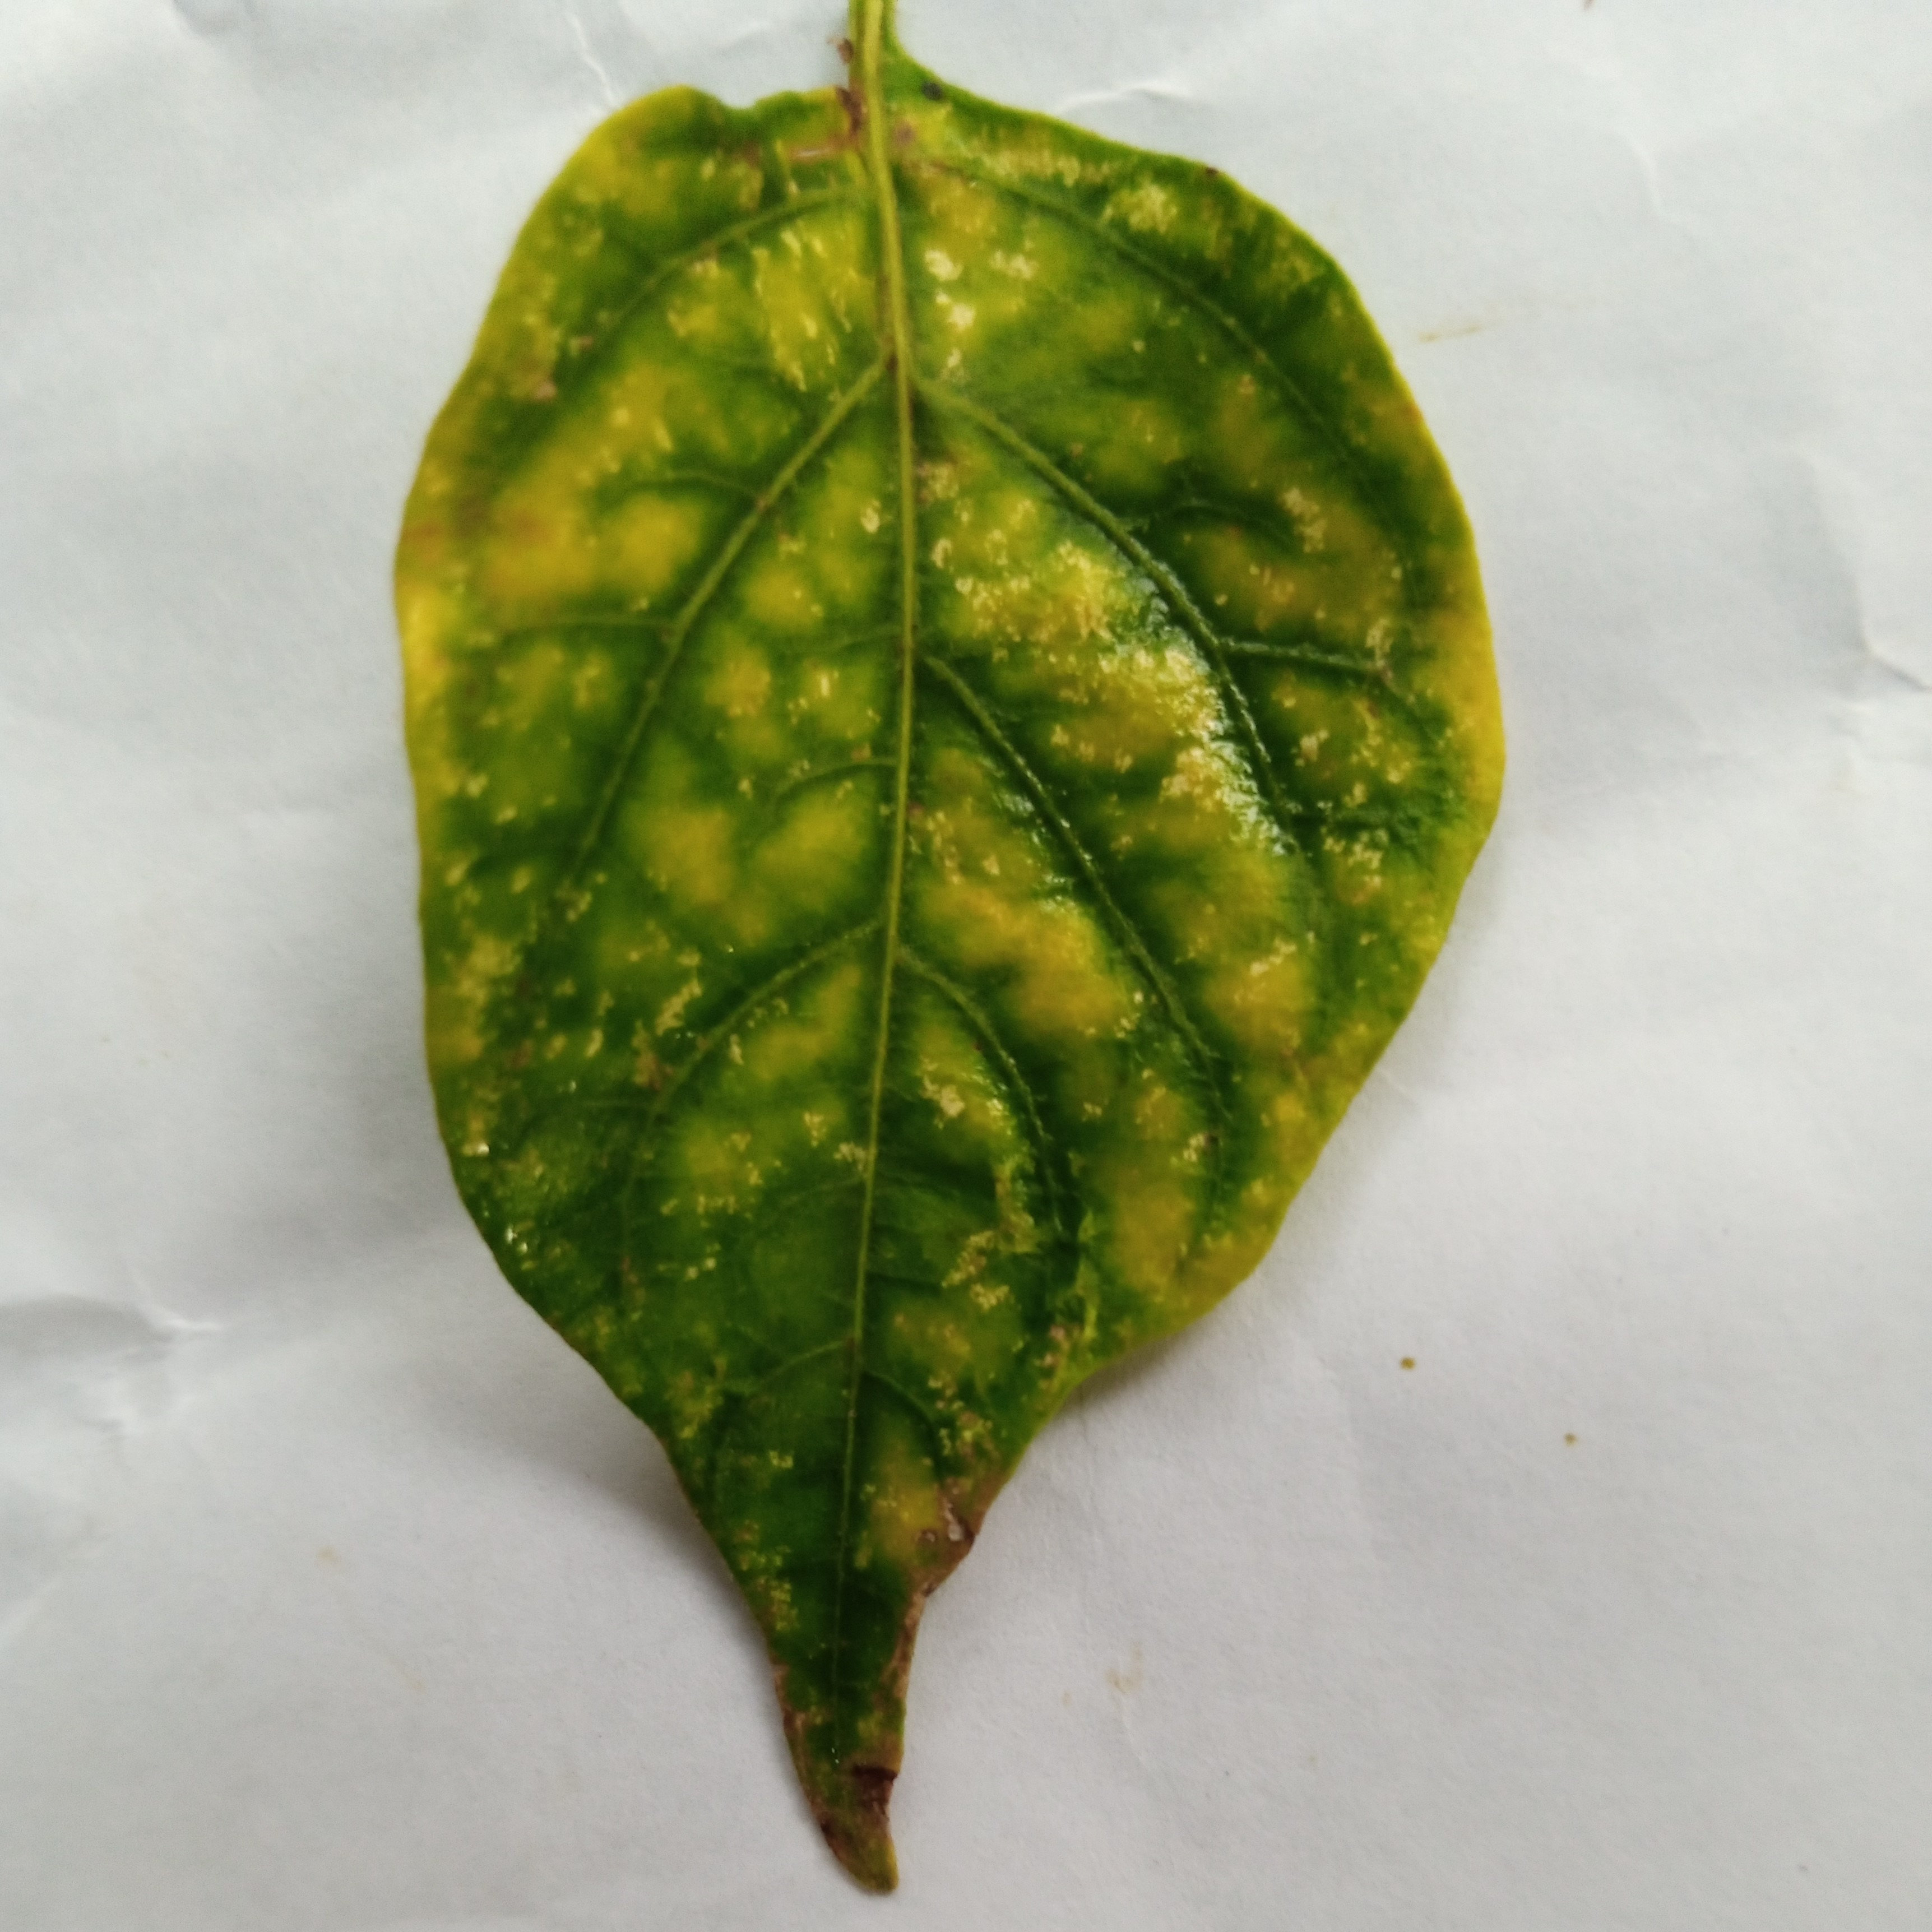Leaf: (205, 30, 1642, 1932)
